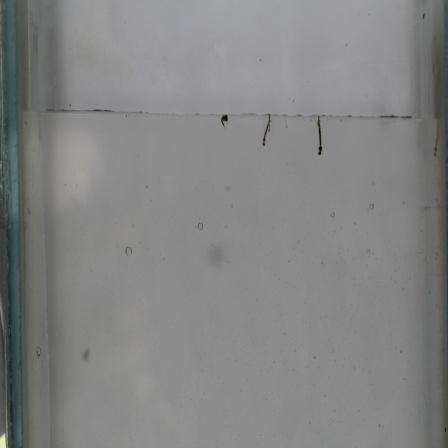Jentik-Nyamuk: (312, 113, 328, 160), (257, 111, 274, 151), (428, 117, 442, 162), (217, 110, 230, 132)
